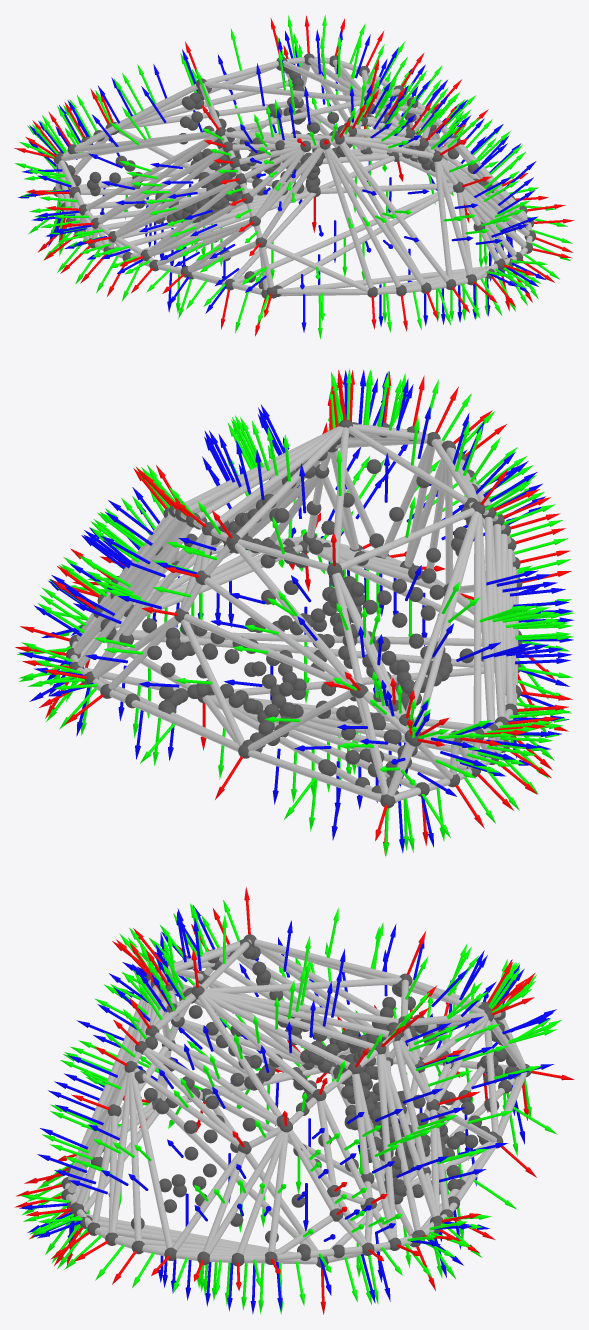
File: author1_building.gltf
The picture shows the model from 3 angles, top to bottom: view 1: azimuth 30°, elevation 25°; view 2: azimuth 150°, elevation 25°; view 3: azimuth 270°, elevation 25°; orthographic projection. The views are drawn at different scales.
Size of the model in its own units: 0.8482 by 0.4541 by 0.8089.
